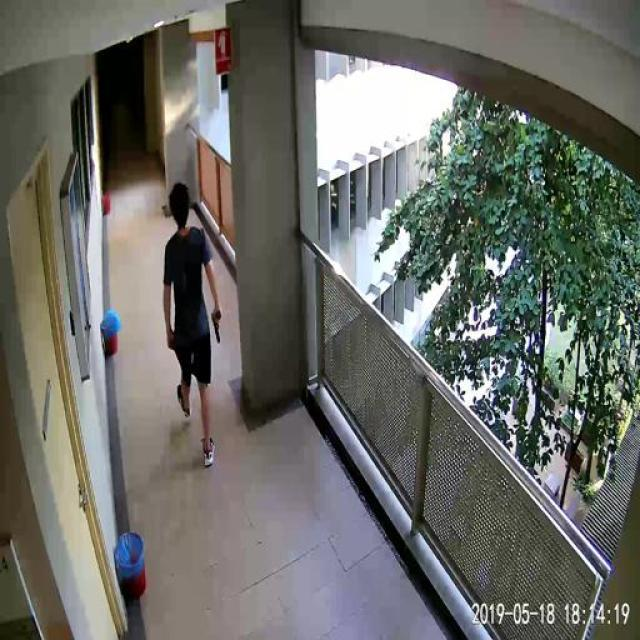Gun: (204, 302, 230, 350)
